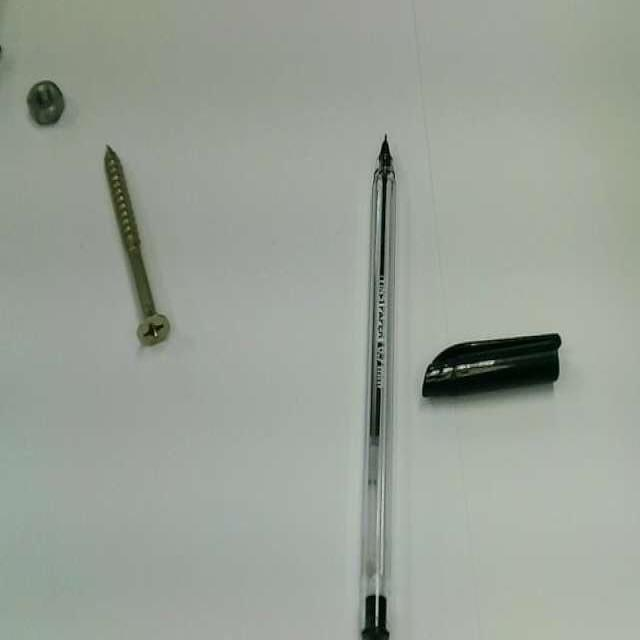Porca: (27, 80, 64, 125)
